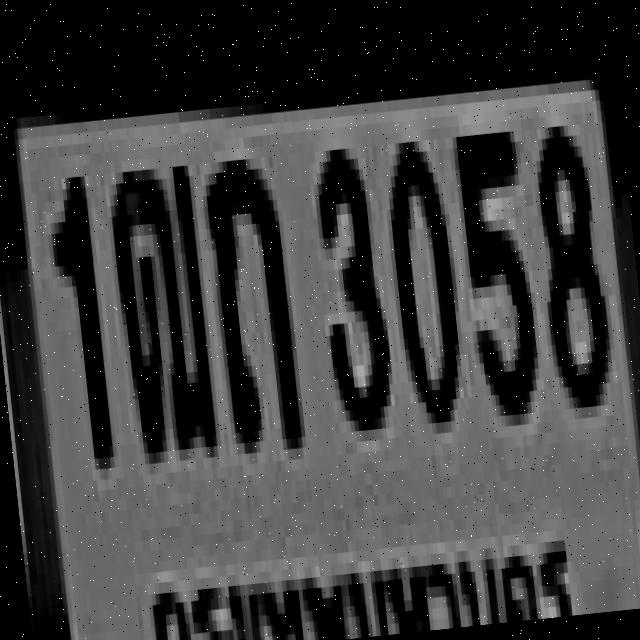0: (378, 128, 461, 414)
1: (40, 166, 110, 460)
27ThorPhuThao: (101, 149, 212, 449)
3: (306, 136, 392, 422)
31ThorThung: (198, 145, 302, 444)
5: (449, 120, 537, 418)
8: (524, 113, 610, 400)
